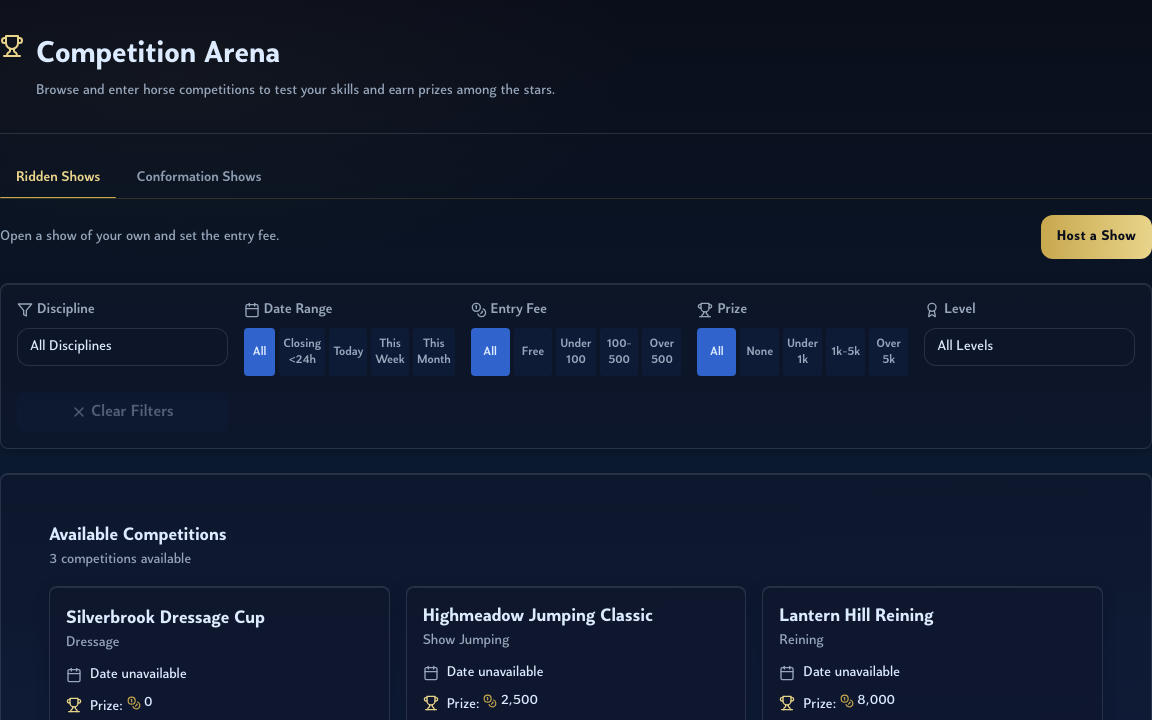
Scenario: CompetitionBrowserPage — filters apply to the list (Equoria-oey96.12) › the prize filter narrows the list
Expected: the heading "Silverbrook Dressage Cup" is shown, [66,609,265,628]
Step 1. Click the button with test id "filter-prize-range" → x=846, y=352, box [826,328,865,376]
(page scrolled)
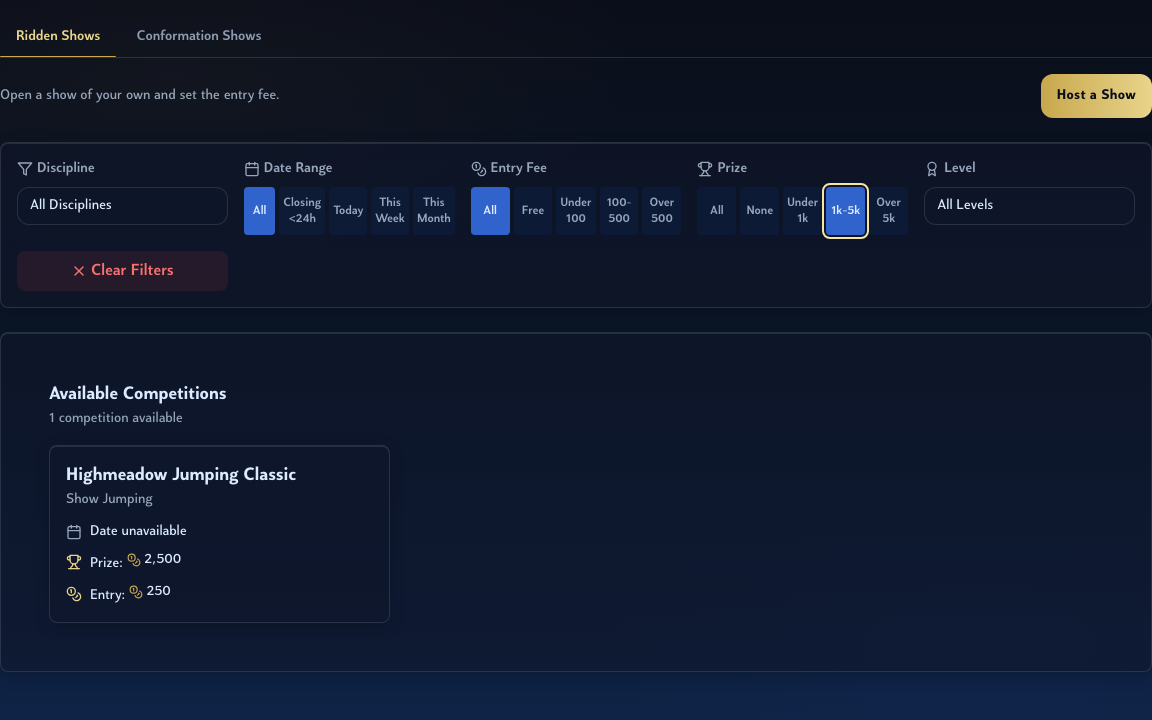
Expected: the button with test id "competition-card" shows "Highmeadow Jumping Classic", [49,445,390,623]
Expected: the number of buttons with test id "competition-card" is 1, [49,445,390,623]
